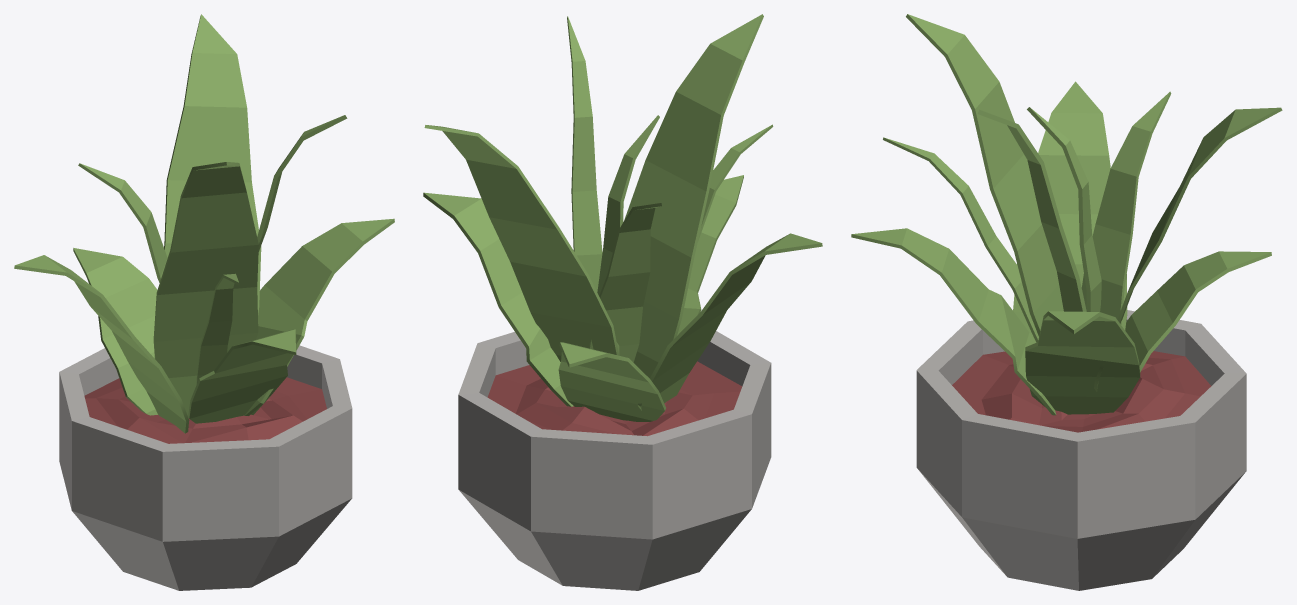
Rendered from plant_pot_v1.fbx.
3 renders of one model, left to right at view 1: azimuth 30°, elevation 25°; view 2: azimuth 150°, elevation 25°; view 3: azimuth 270°, elevation 25°, orthographic. The views are drawn at different scales.
Parts seen in each view (by area): view 1: plant_leafs, Pot, soil; view 2: plant_leafs, Pot, soil; view 3: plant_leafs, Pot, soil.
Boxes of the visible parts, x1,y1,x2,y2 form: plant_leafs: (14,14,394,433); Pot: (59,345,352,590); soil: (84,377,326,443); plant_leafs: (423,14,822,421); Pot: (458,331,771,590); soil: (487,361,742,436); plant_leafs: (851,14,1282,415); Pot: (916,310,1246,590); soil: (952,351,1211,432).
Size of the model in its own units: 22.64 by 26.44 by 20.57.
